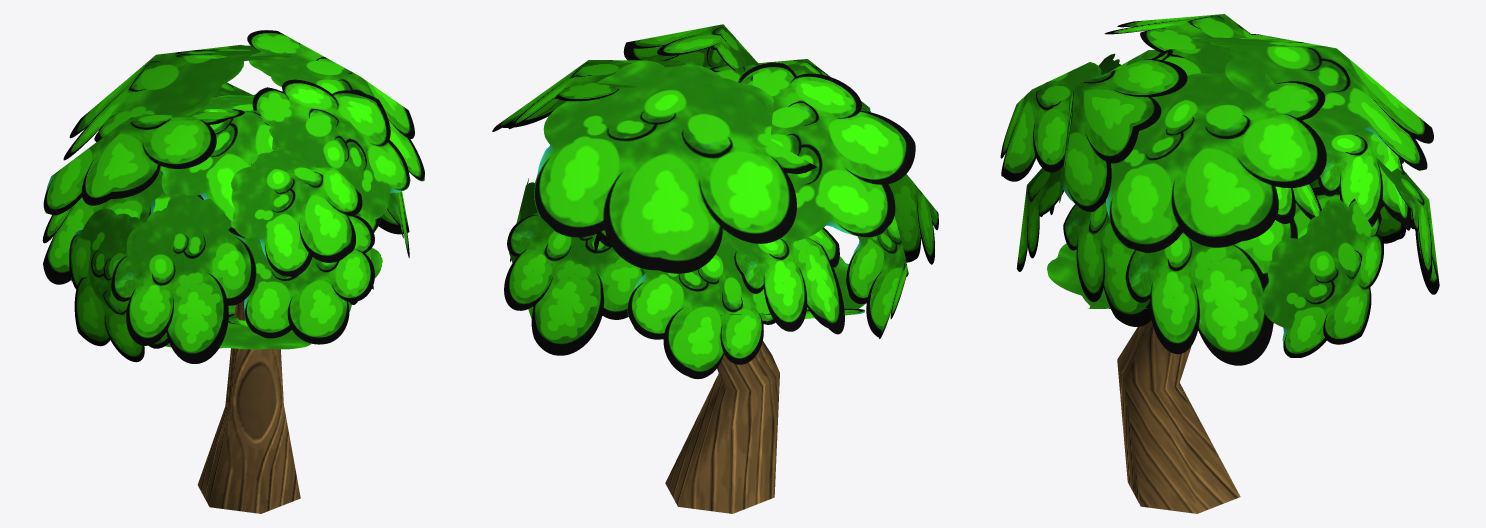
File: Tree001.fbx
The picture shows the model from 3 angles, left to right: view 1: azimuth 30°, elevation 25°; view 2: azimuth 150°, elevation 25°; view 3: azimuth 270°, elevation 25°; orthographic projection. The views are drawn at different scales.
Visible parts, largest first — view 1: TODOS:Piazza:Trees2:polySurface1; view 2: TODOS:Piazza:Trees2:polySurface1; view 3: TODOS:Piazza:Trees2:polySurface1.
Part boxes in pixels (box(x1,y1,x2,y2)): TODOS:Piazza:Trees2:polySurface1: box(42, 30, 424, 513); TODOS:Piazza:Trees2:polySurface1: box(492, 24, 938, 513); TODOS:Piazza:Trees2:polySurface1: box(1000, 14, 1439, 513).
Bounding box in the file's own units: 11.81 × 11.75 × 11.07.
